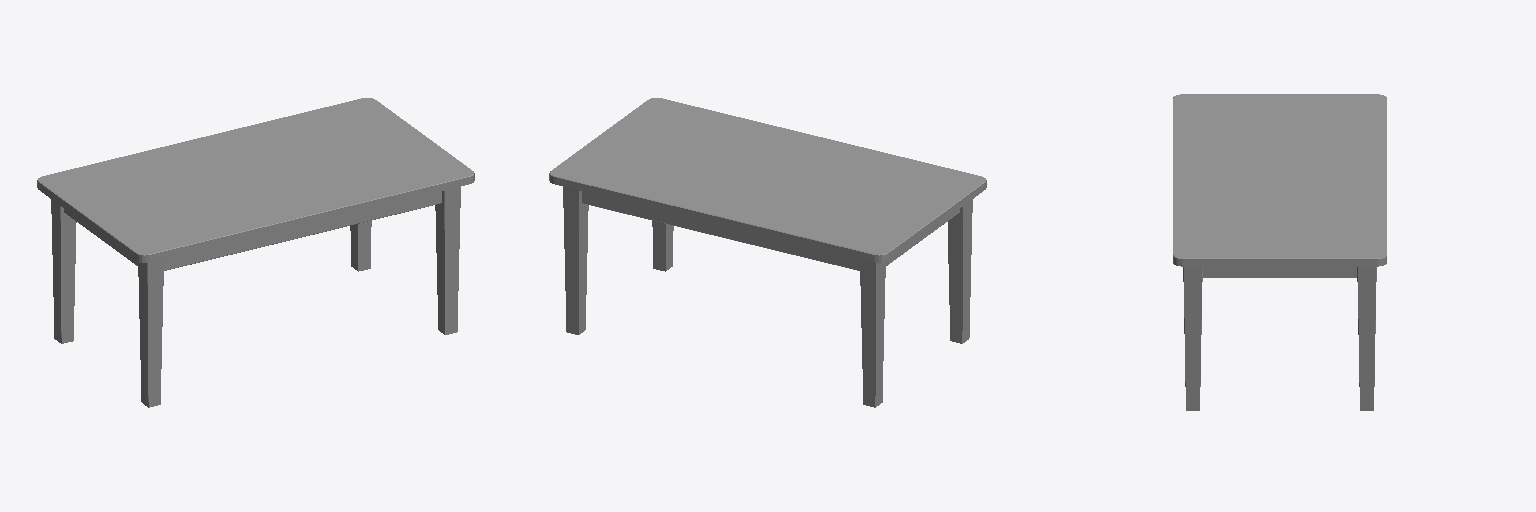
File: table2.obj
3 views of the same model, side by side, from view 1: azimuth 30°, elevation 25°; view 2: azimuth 150°, elevation 25°; view 3: azimuth 270°, elevation 25° (orthographic).
Visible parts, largest first — view 1: Table; view 2: Table; view 3: Table.
Part boxes in pixels (bbox=[...]): Table: bbox=[37, 98, 474, 407]; Table: bbox=[549, 98, 986, 407]; Table: bbox=[1173, 94, 1386, 410].
Bounding box in the file's own units: 182 × 82.18 × 100.